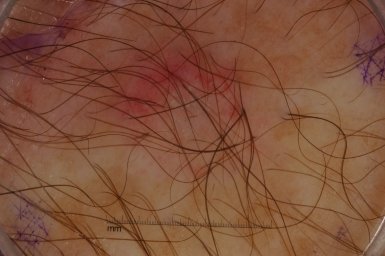seborrheic keratosis: (115, 35, 259, 163)
